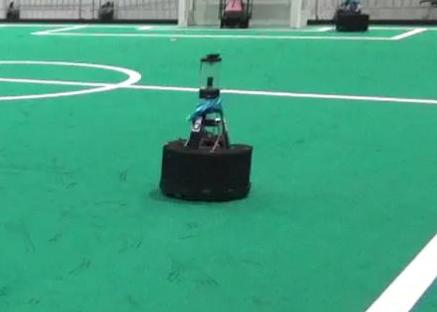robot: (158, 49, 257, 201)
